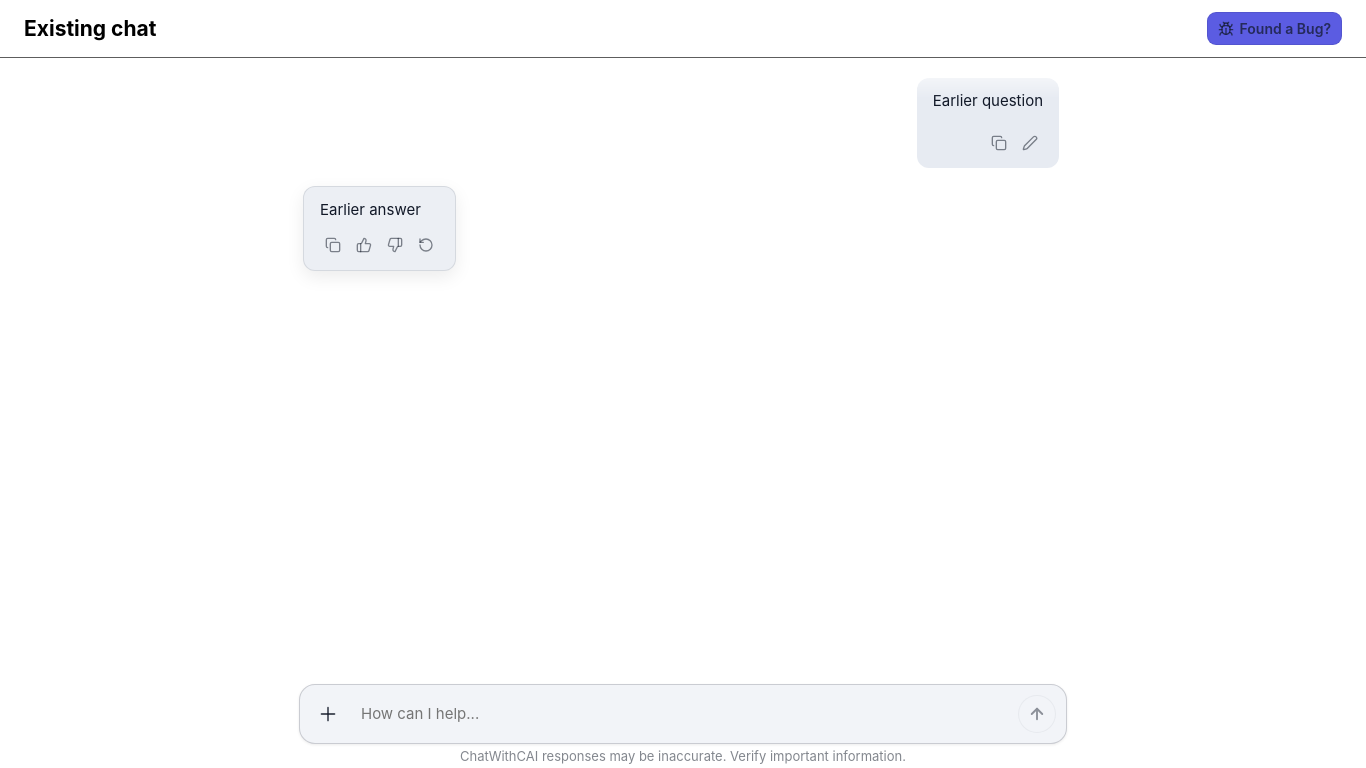
chat message sending › cancels editing without sending the edited message
The image size is (1366, 768).
Expected: the text "Earlier answer" is shown, [320, 200, 421, 218]
Click the 2nd button "Edit" at x=1030, y=142, box [1017, 130, 1043, 156]
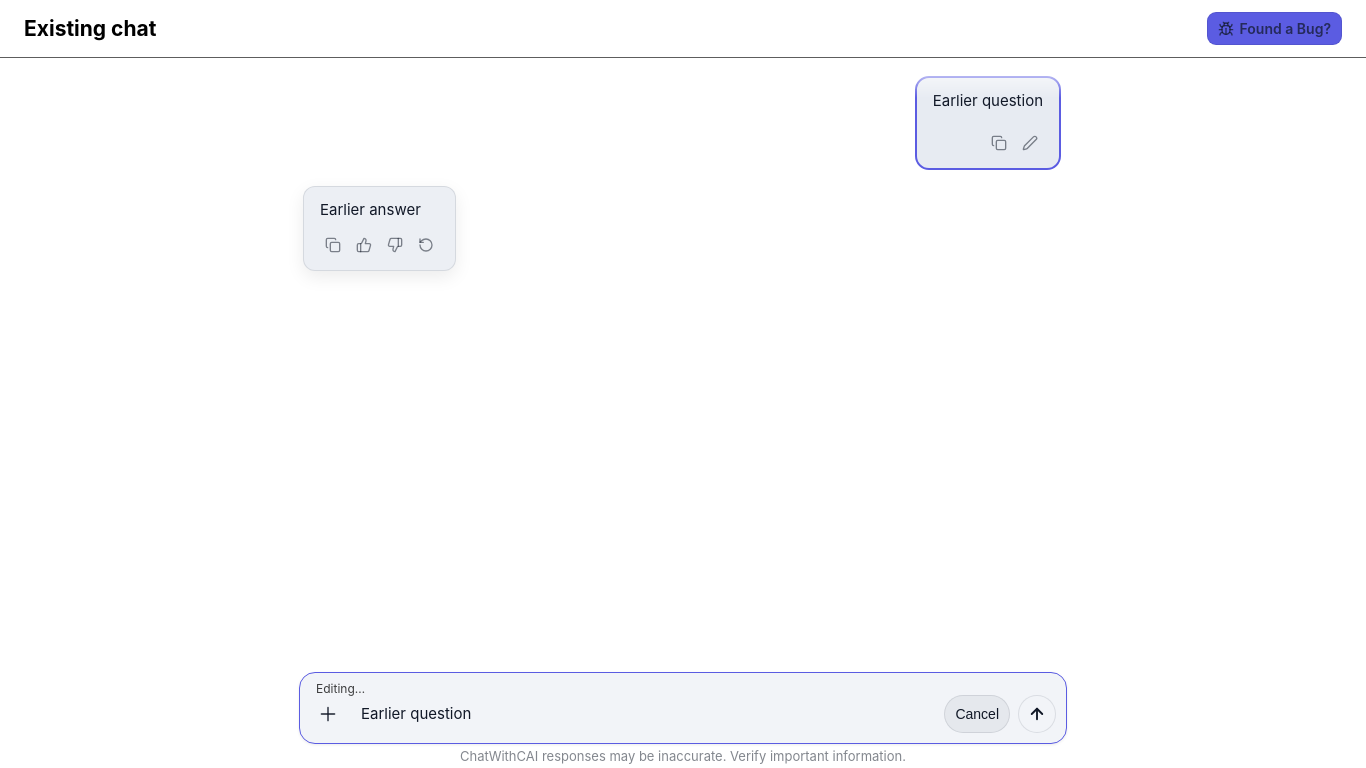
Replace the text in the text box with "Do not send this edit" at x=641, y=714, box [355, 704, 926, 724]
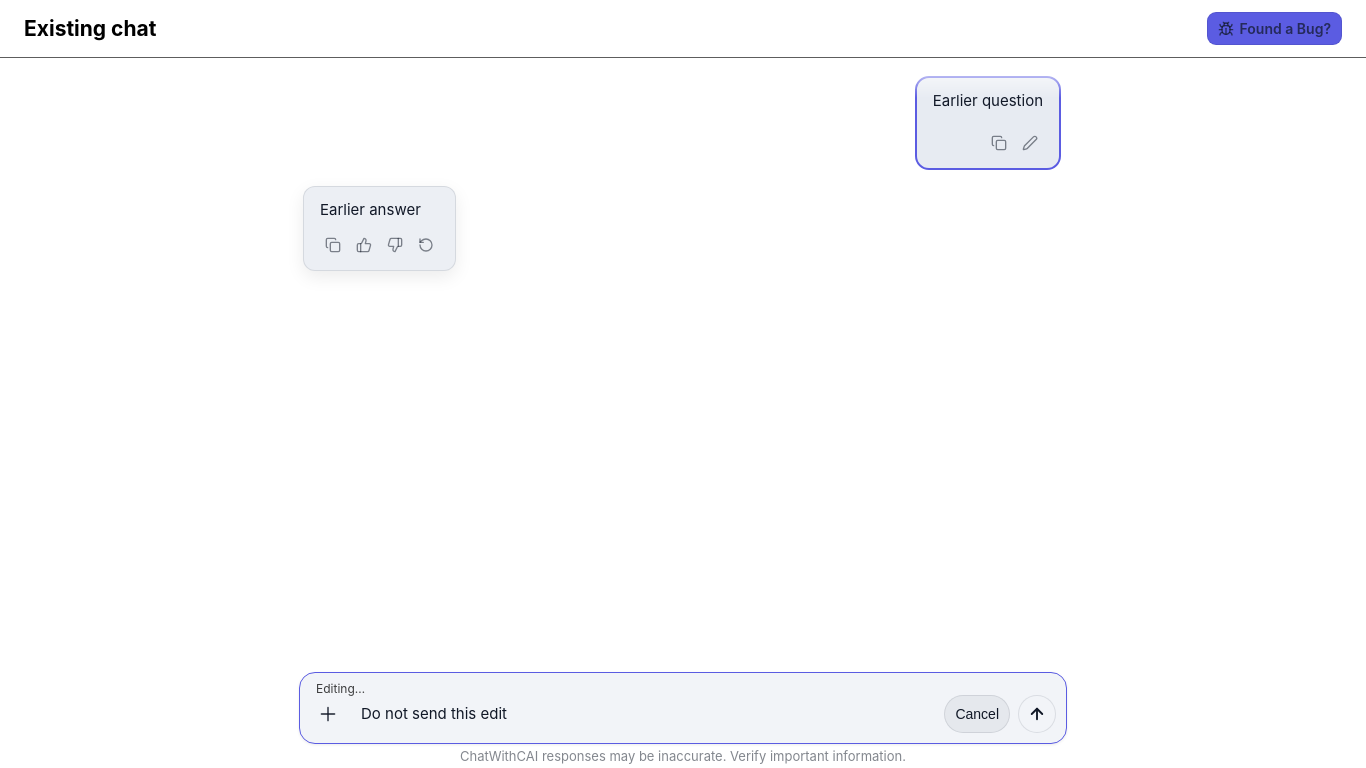
Click the button with aria-label "Cancel edit" at x=977, y=714, box [944, 695, 1010, 733]
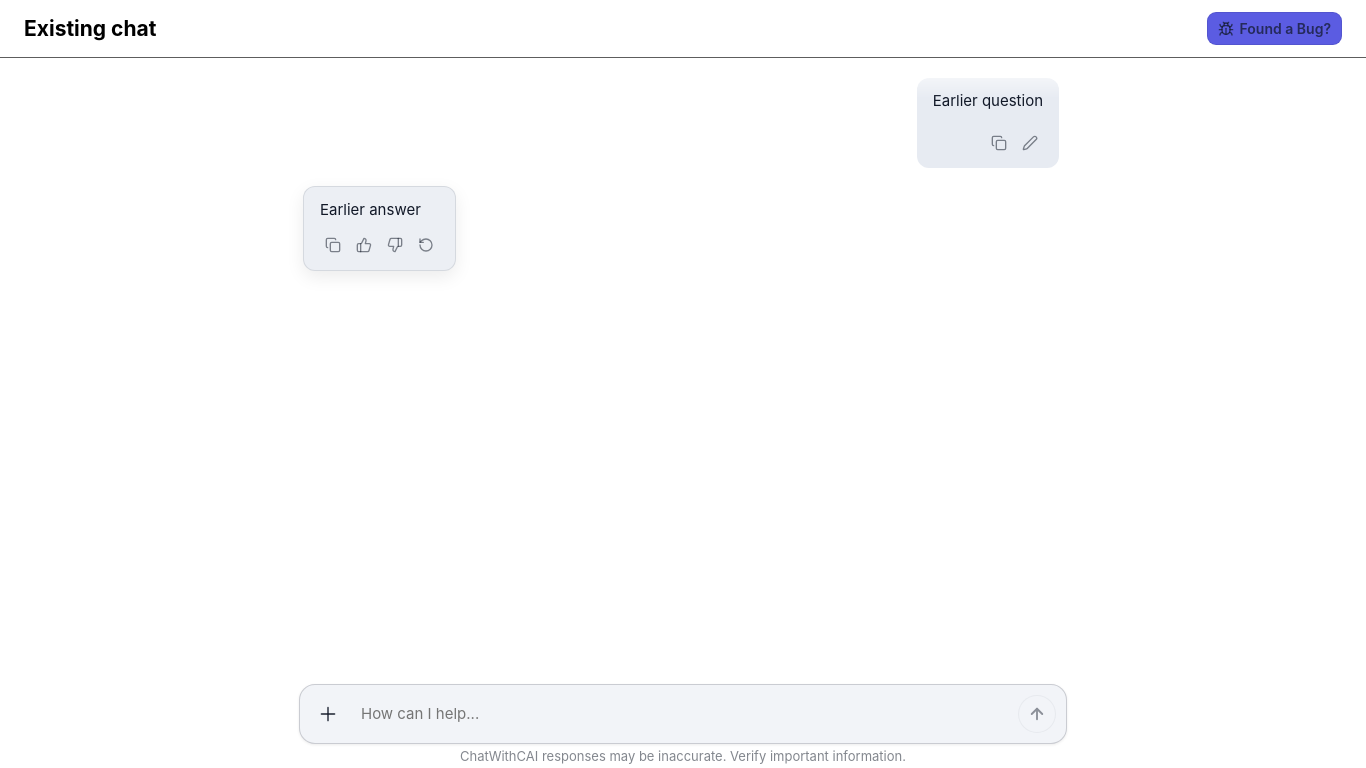
Expected: the text box is empty, [355, 704, 1000, 724]
